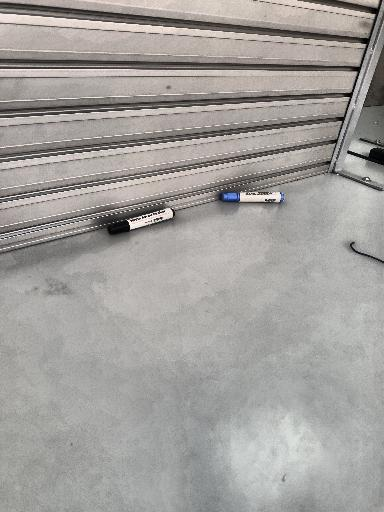marcador azul: (221, 192, 284, 204)
marcador negro: (107, 208, 174, 234)
